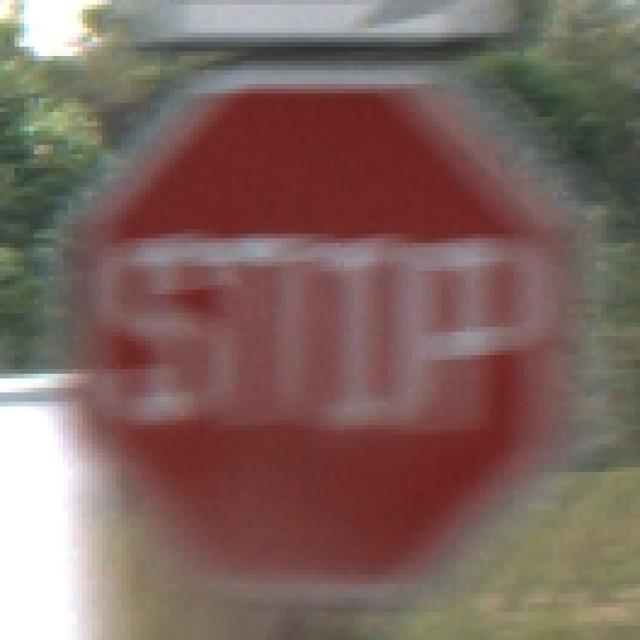STOP: (54, 57, 588, 590)
